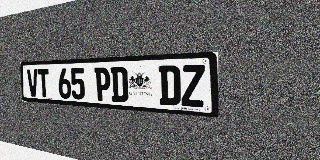5: (70, 68, 85, 100)
6: (58, 68, 71, 99)
D: (158, 65, 181, 106), (110, 67, 128, 103)
P: (94, 67, 111, 101)
T: (37, 69, 50, 98)
V: (27, 69, 39, 97)
Z: (181, 64, 205, 107)
